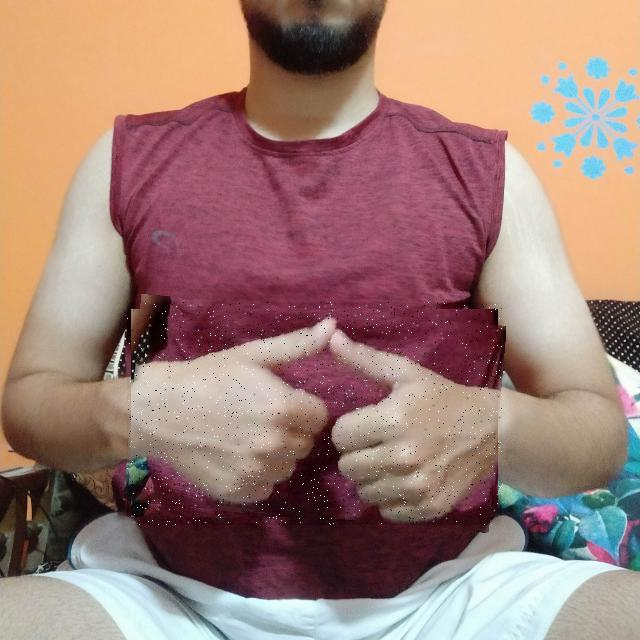A: (127, 302, 502, 525)
